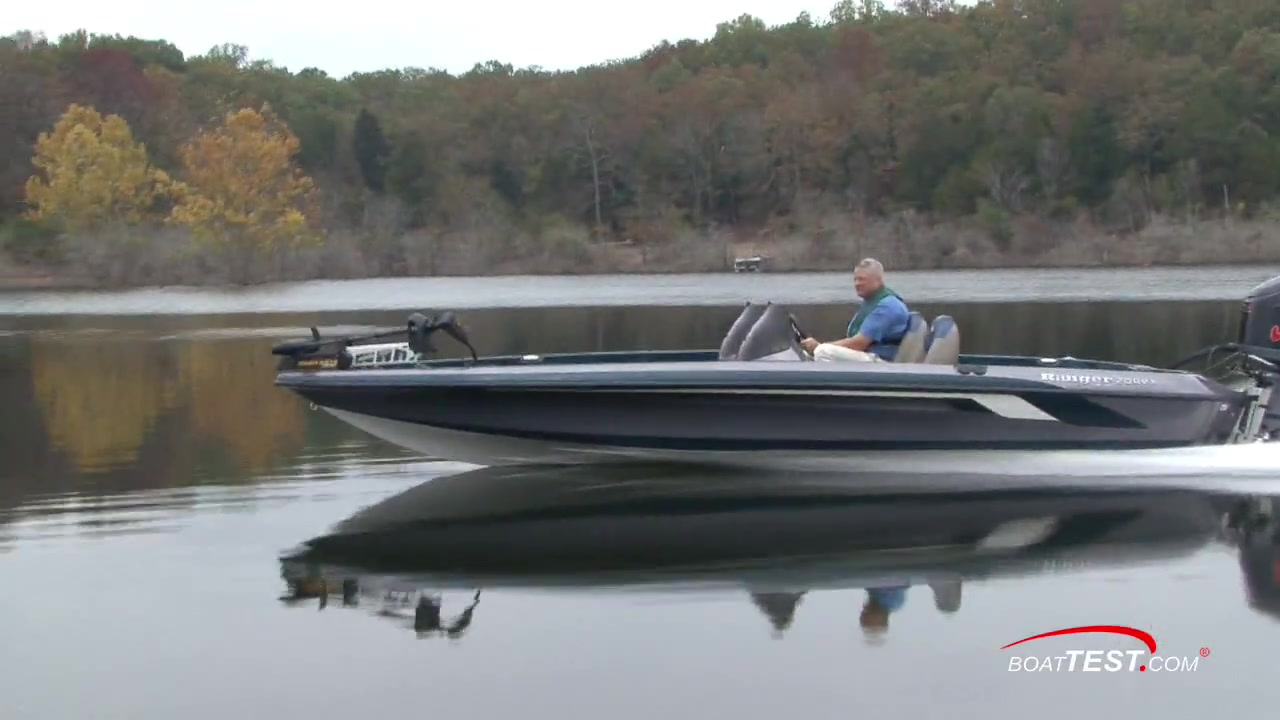boat: (269, 280, 1280, 455)
